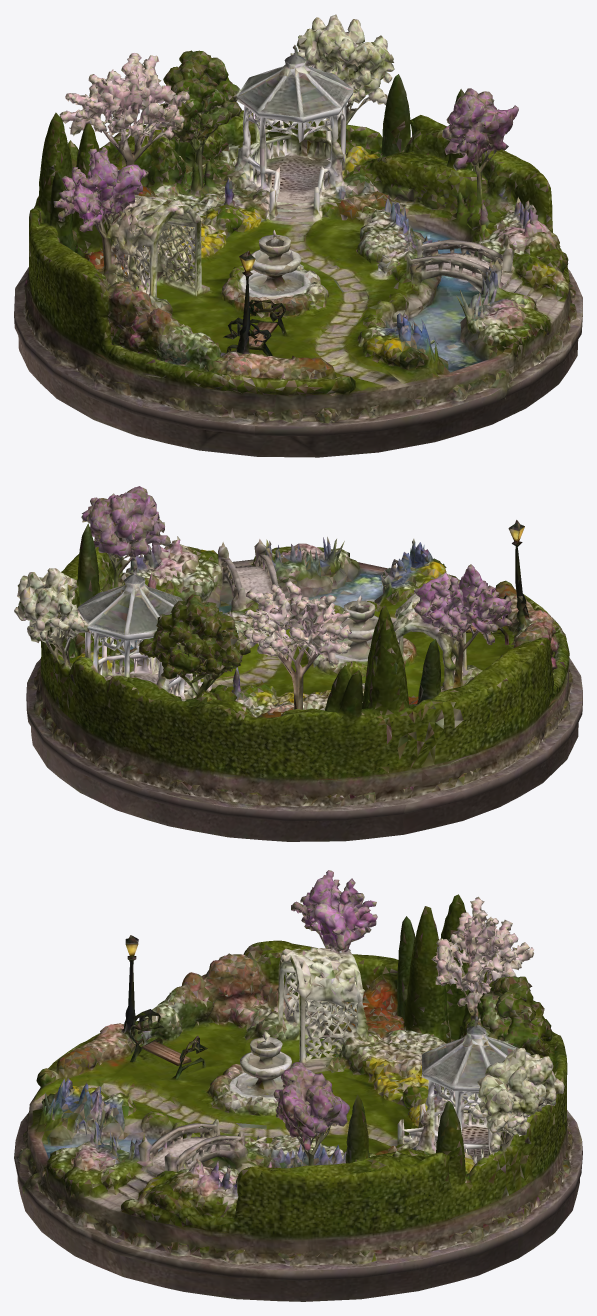
File: Enchanted_Garden_with.glb
3 views of the same model, one above another, from view 1: azimuth 30°, elevation 25°; view 2: azimuth 150°, elevation 25°; view 3: azimuth 270°, elevation 25° (orthographic). The views are drawn at different scales.
Parts seen in each view (by area): view 1: Enchanted_Garden_with; view 2: Enchanted_Garden_with; view 3: Enchanted_Garden_with.
Part boxes in pixels (box(x1,y1,x2,y2)): Enchanted_Garden_with: box(14, 14, 582, 457); Enchanted_Garden_with: box(14, 486, 582, 841); Enchanted_Garden_with: box(14, 870, 582, 1301).
Size of the model in its own units: 1.89 by 0.8573 by 1.89.
Materials: 1 (1 with a texture image).
